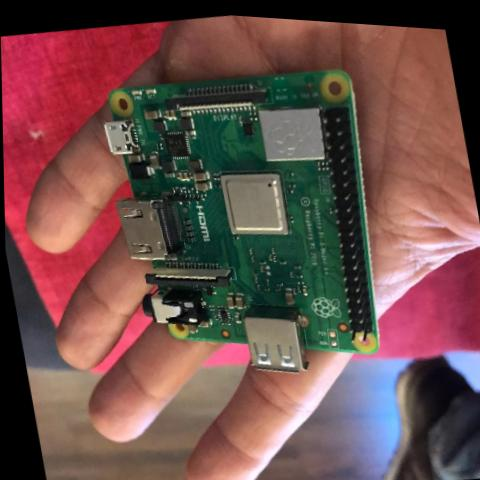Raspberry-Pi-3-Model-A-: (82, 28, 414, 410)
